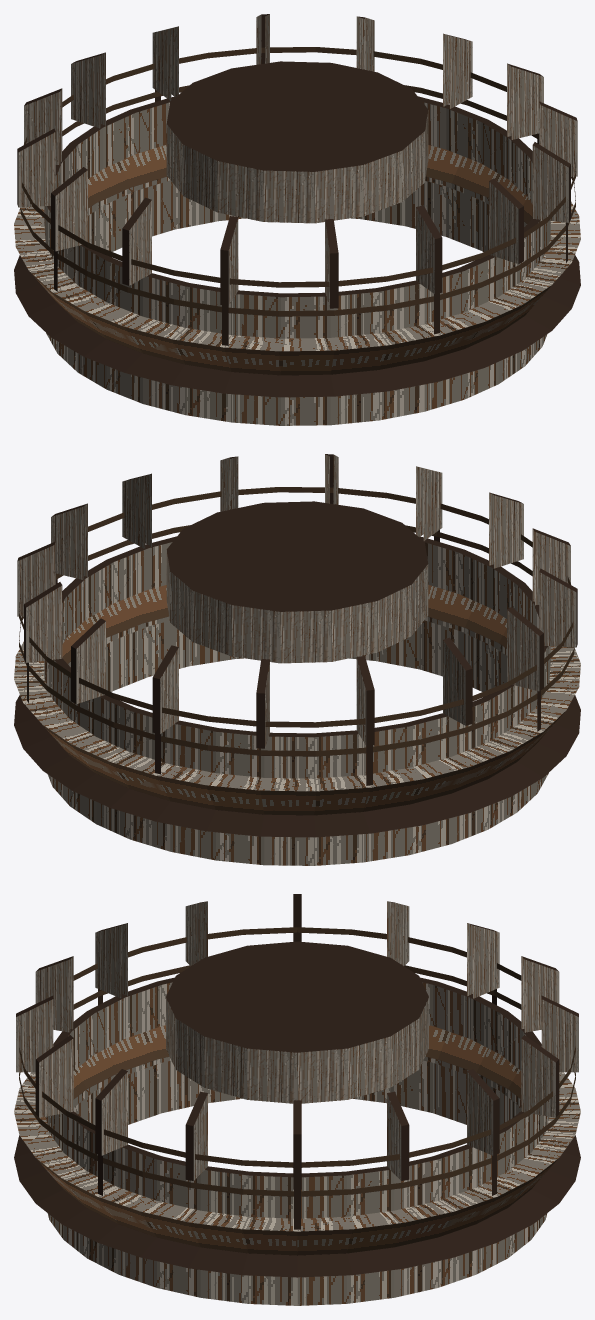
Rendered from TOR-02_Corona_de_torre_b.gltf.
3 views of the same model, one above another, from view 1: azimuth 30°, elevation 25°; view 2: azimuth 150°, elevation 25°; view 3: azimuth 270°, elevation 25° (orthographic).
Parts seen in each view (by area): view 1: TOR-02_Corona_de_torre_b-col; view 2: TOR-02_Corona_de_torre_b-col; view 3: TOR-02_Corona_de_torre_b-col.
Boxes of the visible parts, left/top/right/bottom form: TOR-02_Corona_de_torre_b-col: left=14, top=14, right=580, bottom=425; TOR-02_Corona_de_torre_b-col: left=14, top=454, right=580, bottom=865; TOR-02_Corona_de_torre_b-col: left=14, top=894, right=580, bottom=1305.
Size of the model in its own units: 5.6 by 2.2 by 5.6.
Materials: 1 (1 with a texture image).
